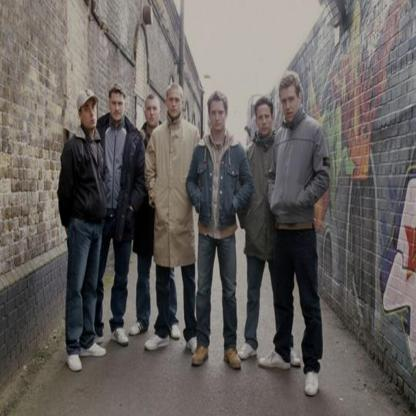face: (281, 88, 299, 121), (82, 96, 98, 128), (257, 105, 273, 136), (212, 101, 226, 130), (111, 93, 125, 121), (169, 91, 183, 119), (147, 100, 161, 126)
